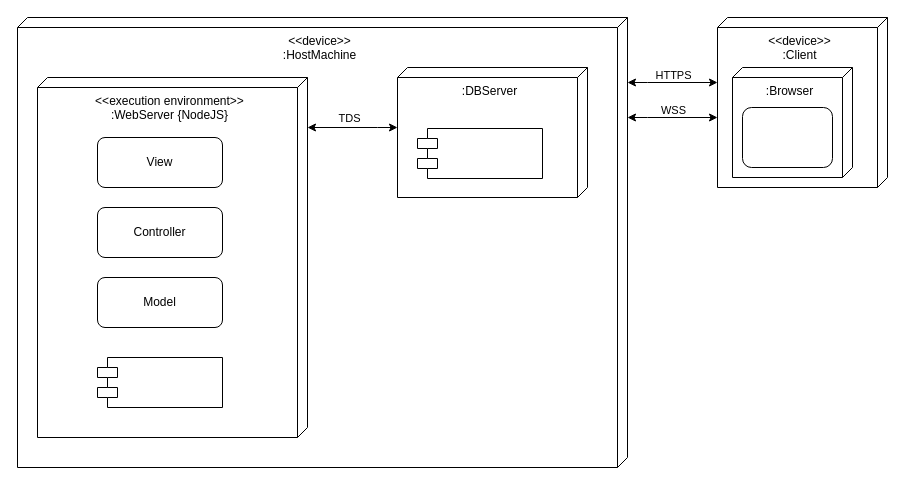
This 905x485 diagram has some shape labels left out. Each missing label, with the centre of its shape:
<<artifact>> HTML 5: [787,137]
Sequelize: [159,382]
SQL Server: [479,153]
